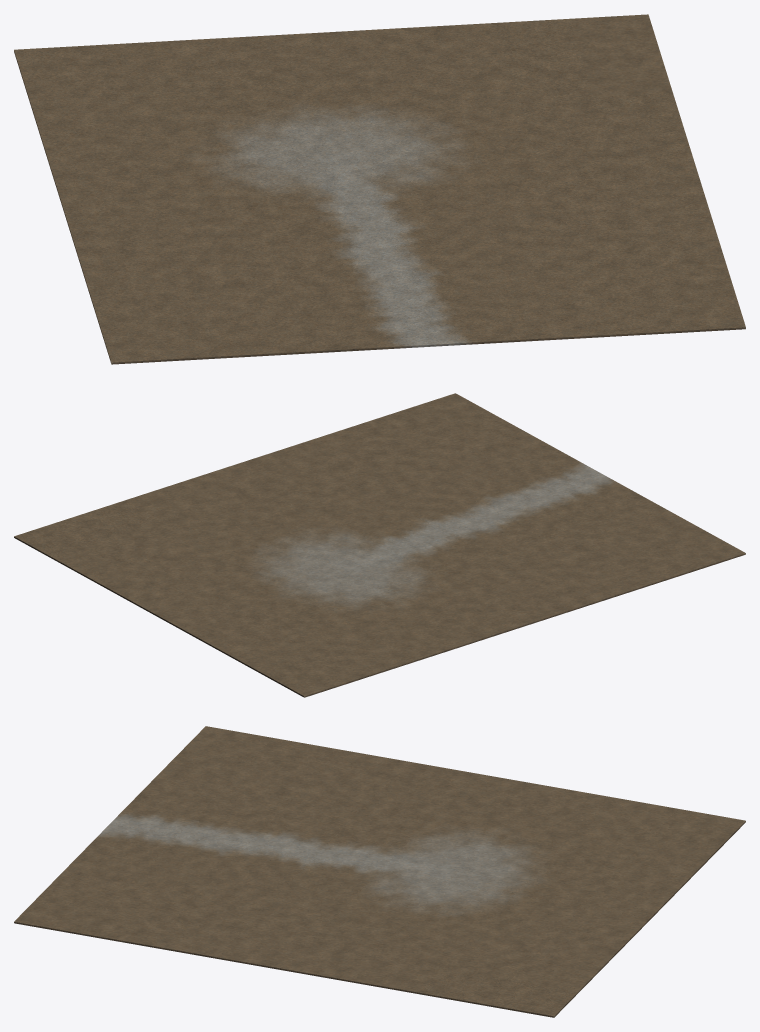
The picture shows the model from 3 angles, top to bottom: view 1: azimuth 30°, elevation 25°; view 2: azimuth 150°, elevation 25°; view 3: azimuth 270°, elevation 25°; orthographic projection. The views are drawn at different scales.
Parts seen in each view (by area): view 1: Ground_-1_-1_0_100_000, Ground_0_-1_0_000_100, Ground_-1_-1_0_000, Ground_0_-1_0_100, Ground_-1_-1_0_010, Ground_-1_0_0_010, Ground_-1_0_0_000, Ground_-1_-1_0_110_000, Ground_0_0_0_010_100, Ground_0_0_0_000_110, Ground_-1_-1_0_100_010, Ground_0_0_0_010_110 (+28 smaller); view 2: Ground_-1_0_0_010, Ground_-1_-1_0_010, Ground_-1_0_0_000, Ground_-1_-1_0_000, Ground_0_0_0_010_110, Ground_-1_0_0_110_010, Ground_0_0_0_110, Ground_0_-1_0_110, Ground_0_-1_0_100, Ground_0_0_0_100, Ground_-1_-1_0_100_010, Ground_-1_-1_0_110_010 (+28 smaller); view 3: Ground_0_0_0_110, Ground_0_-1_0_110, Ground_0_0_0_100, Ground_0_-1_0_100, Ground_0_0_0_010_110, Ground_-1_0_0_110_010, Ground_-1_0_0_010, Ground_-1_-1_0_000, Ground_-1_-1_0_010, Ground_-1_0_0_000, Ground_-1_-1_0_110_000, Ground_0_-1_0_010_100 (+28 smaller).
Boxes of the visible parts, x1,y1,x2,y2 form: Ground_-1_-1_0_100_000: [178, 310, 349, 359]; Ground_0_-1_0_000_100: [496, 292, 666, 342]; Ground_-1_-1_0_000: [87, 280, 190, 364]; Ground_0_-1_0_100: [642, 249, 745, 333]; Ground_-1_-1_0_010: [62, 201, 166, 285]; Ground_-1_0_0_010: [14, 45, 117, 128]; Ground_-1_0_0_000: [38, 123, 141, 206]; Ground_-1_-1_0_110_000: [154, 232, 324, 279]; Ground_0_0_0_010_100: [423, 58, 593, 105]; Ground_0_0_0_000_110: [435, 97, 605, 144]; Ground_-1_-1_0_100_010: [166, 271, 336, 318]; Ground_0_0_0_010_110: [411, 19, 581, 66]; Ground_-1_0_0_010: [268, 640, 414, 697]; Ground_-1_-1_0_010: [489, 569, 635, 625]; Ground_-1_0_0_000: [379, 605, 525, 661]; Ground_-1_-1_0_000: [600, 533, 745, 589]; Ground_0_0_0_010_110: [50, 538, 177, 597]; Ground_-1_0_0_110_010: [195, 618, 322, 677]; Ground_0_0_0_110: [14, 500, 160, 557]; Ground_0_-1_0_110: [235, 429, 380, 484]; Ground_0_-1_0_100: [346, 393, 491, 448]; Ground_0_0_0_100: [125, 465, 270, 520]; Ground_-1_-1_0_100_010: [527, 511, 653, 568]; Ground_-1_-1_0_110_010: [416, 547, 543, 604]; Ground_0_0_0_110: [419, 968, 578, 1017]; Ground_0_-1_0_110: [149, 921, 307, 970]; Ground_0_0_0_100: [284, 944, 442, 993]; Ground_0_-1_0_100: [14, 897, 172, 946]; Ground_0_0_0_010_110: [511, 931, 625, 992]; Ground_-1_0_0_110_010: [607, 833, 721, 895]; Ground_-1_0_0_010: [587, 797, 745, 846]; Ground_-1_-1_0_000: [182, 726, 340, 773]; Ground_-1_-1_0_010: [317, 750, 475, 797]; Ground_-1_0_0_000: [452, 773, 610, 821]; Ground_-1_-1_0_110_000: [269, 774, 383, 834]; Ground_0_-1_0_010_100: [173, 872, 287, 932].
Size of the model in its own units: 132 by 0.33 by 140.
40 materials, 40 textured.
